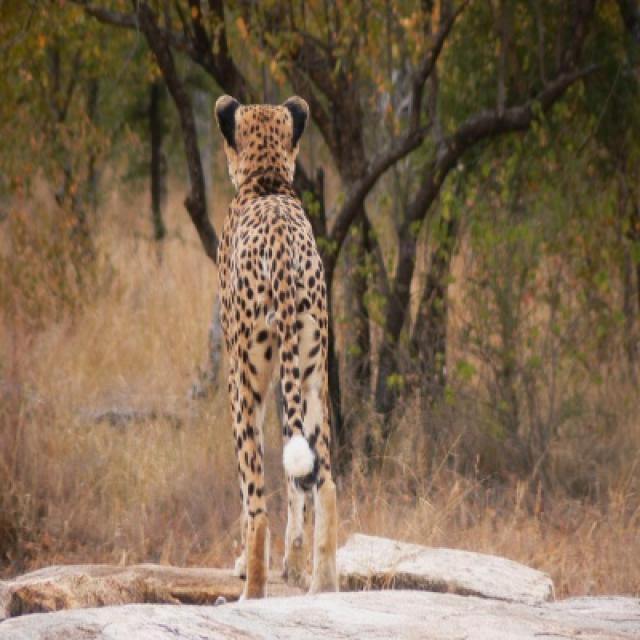Cheetah: (214, 96, 341, 600)
